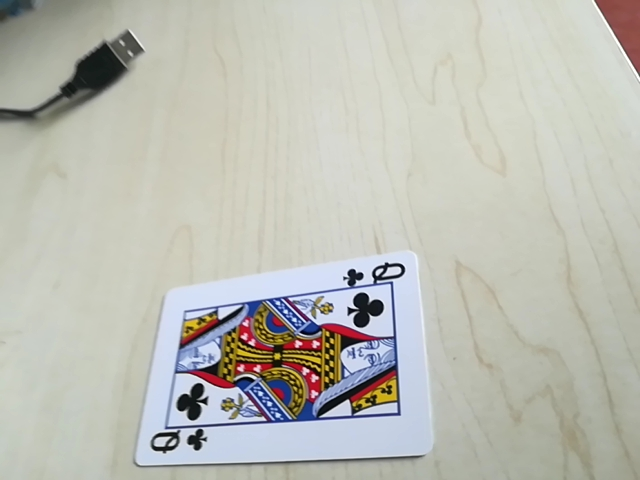mh q: (143, 424, 211, 461), (343, 259, 407, 290)
